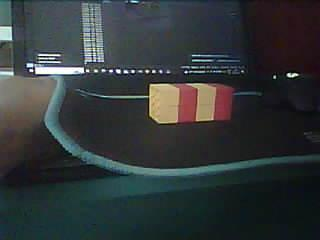lego: (148, 82, 235, 124)
